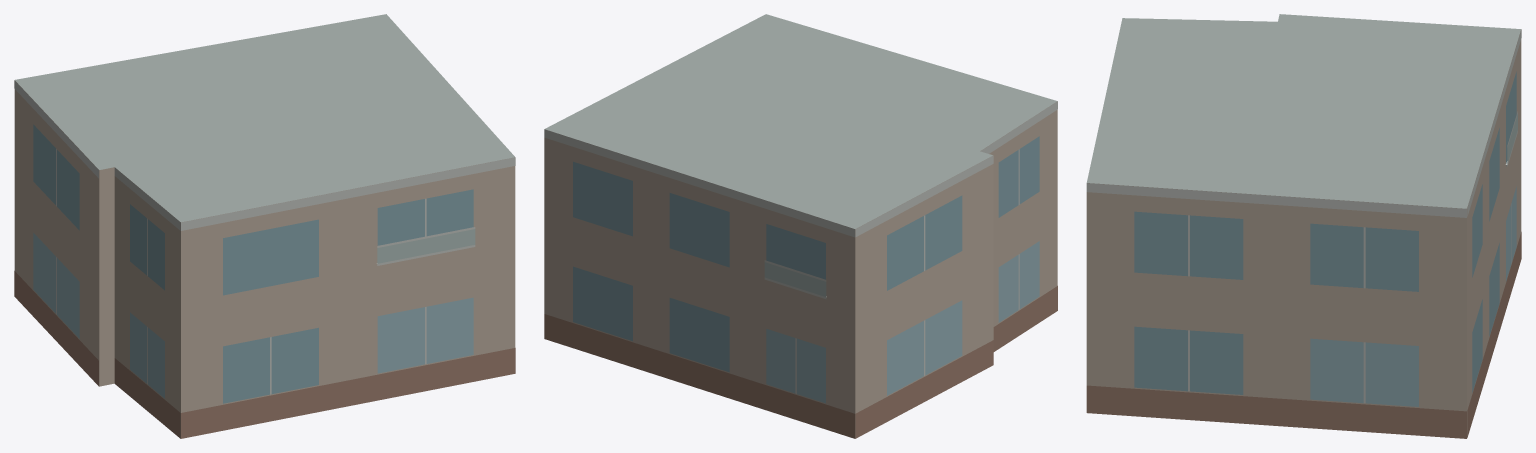
File: survey-upis-32684764.glb
3 views of the same model, side by side, from view 1: azimuth 30°, elevation 25°; view 2: azimuth 150°, elevation 25°; view 3: azimuth 270°, elevation 25° (orthographic). The views are drawn at different scales.
Visible parts, largest first — view 1: survey-upis-32684764.tmp; view 2: survey-upis-32684764.tmp; view 3: survey-upis-32684764.tmp.
Boxes of the visible parts, box(x1,y1,x2,y2) form: survey-upis-32684764.tmp: box(14, 14, 515, 438); survey-upis-32684764.tmp: box(544, 14, 1057, 438); survey-upis-32684764.tmp: box(1086, 14, 1521, 438).
Bounding box in the file's own units: 11.08 × 6.1 × 10.46.
